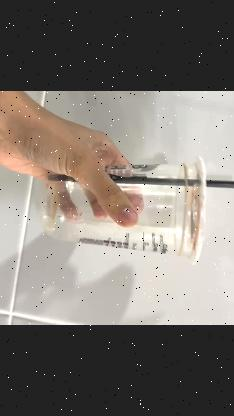Others: (45, 150, 234, 263)
